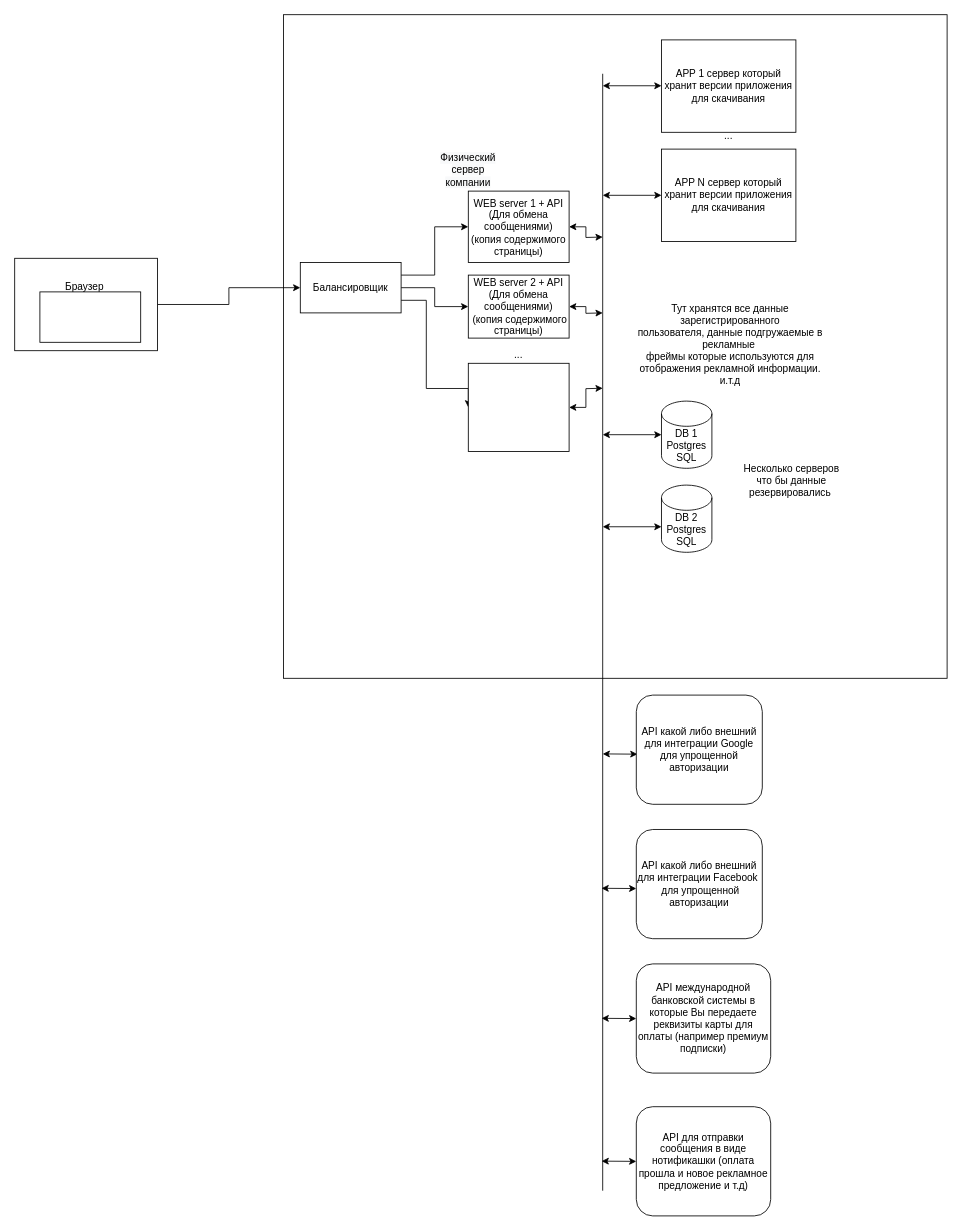
The diagram is 962 pixels wide and 1231 high, and some of its shapes have lost their labels. Each missing label, with the centre of its shape:
WEB server 3 + API (Для обмена сообщениями) и т.д (копия содержимого страницы): the point at 518,407
Клиент N (web страница): the point at 90,316
